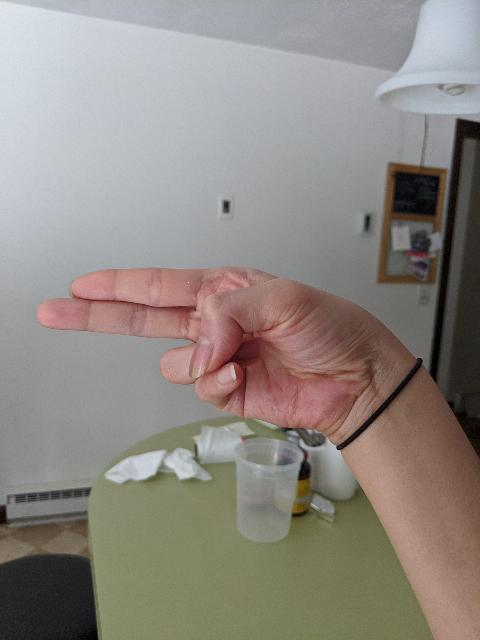H: (33, 261, 387, 437)
